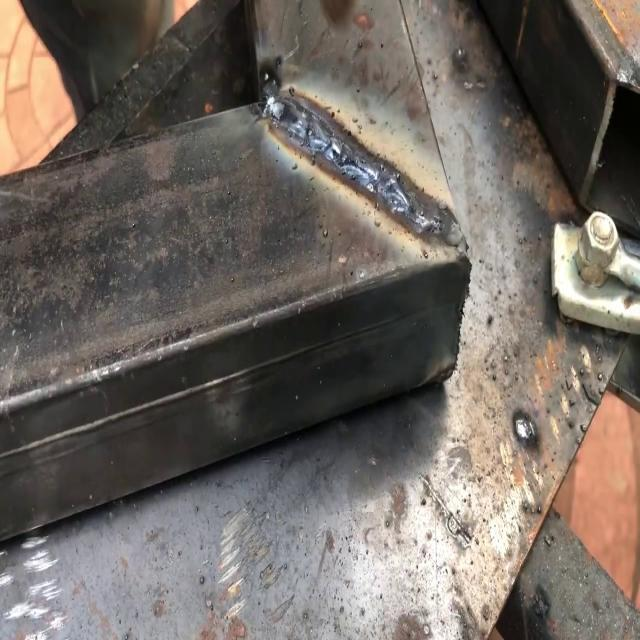Bad Welding: (261, 93, 462, 247)
